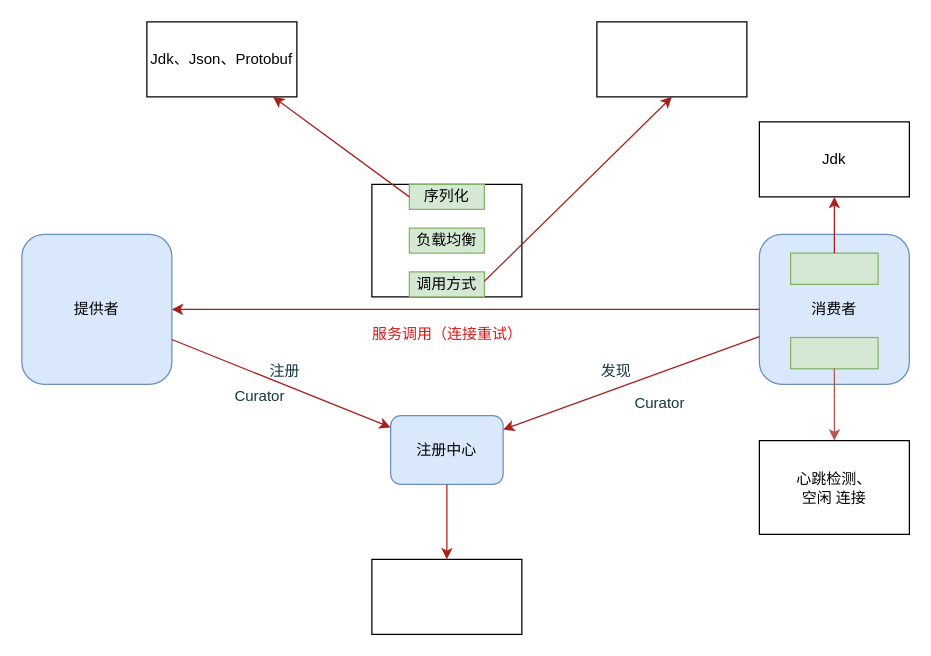
This 931x656 diagram has some shape labels left out. Each missing label, with the box of its shape:
Zookeeper: (371, 558, 522, 634)
代理: (789, 252, 878, 284)
同步、异步、单向: (596, 21, 747, 97)
连接池: (789, 336, 878, 369)
